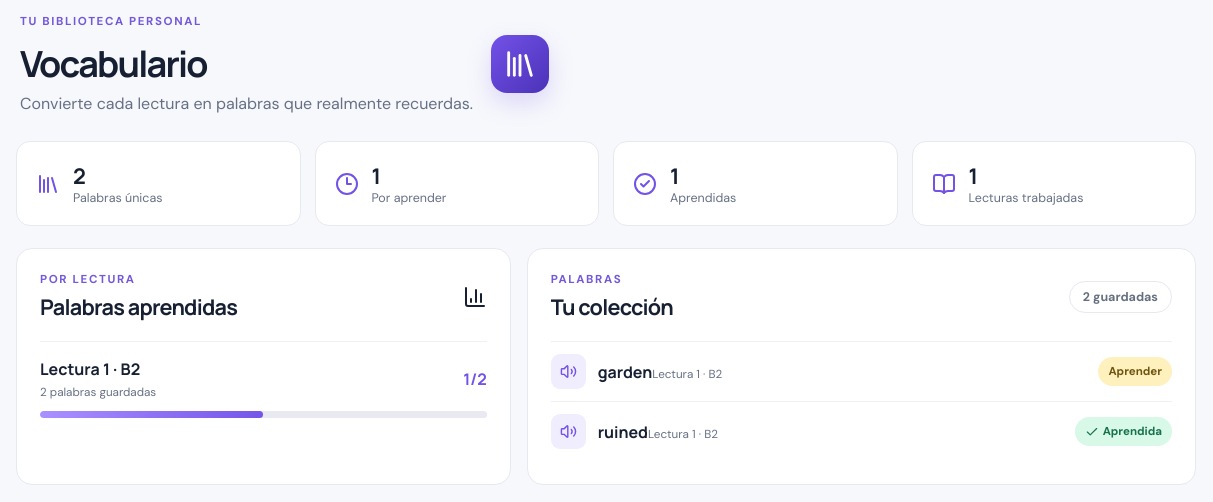
it: Vocabulary › muestra estadísticas por lectura y actualiza el estado de una palabra
The image size is (1213, 502).
expect the heading "Vocabulario" is shown: met, box [20,39,207,88]
expect the text "Lectura 1 · B2" is shown 3 times: met, box [40,358,156,380]; [652,366,722,382]; [648,426,718,442]
Click the button "Aprender" at (1135, 372), box [1098,357,1172,386]
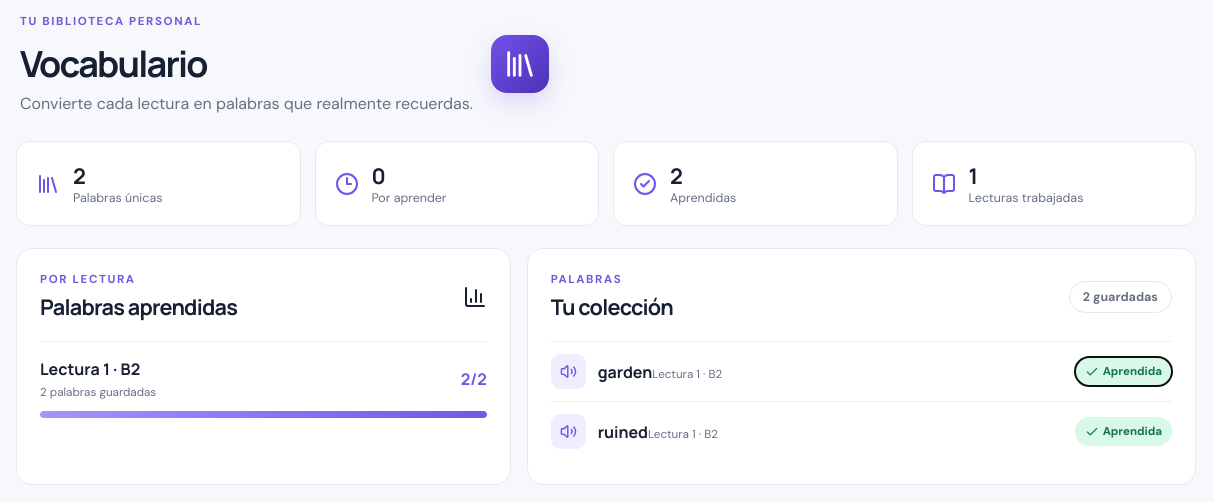
expect the text "2/2" is shown: met, box [461,368,487,390]
expect the button "Aprendida" in the row of "garden" is shown: met, box [1075,357,1172,386]
